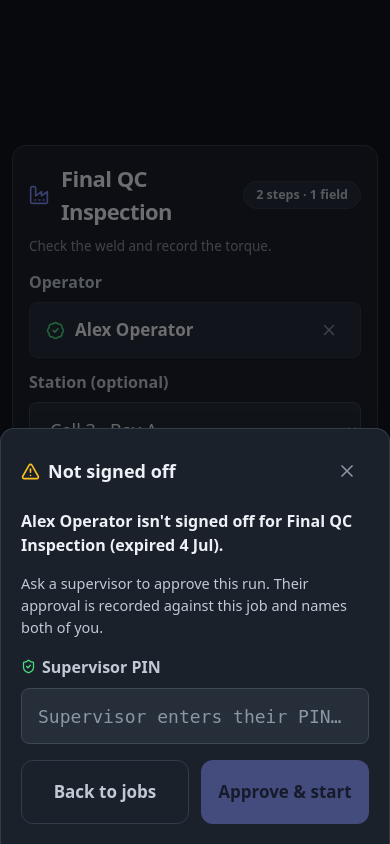
Test: a start refused because the operator is not signed off › asks for the PIN against THIS app and operator, then retries with a bound token
Type "4417" into the password field labelled "Supervisor PIN" at [195, 716], box [21, 688, 369, 744]
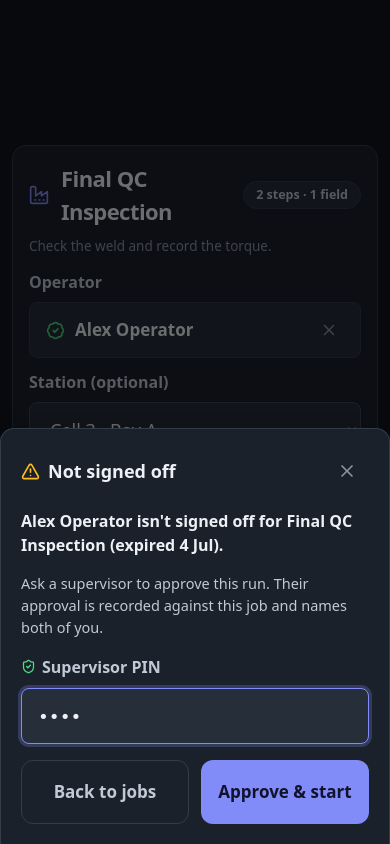
Click the button "Approve & start" at [285, 792], box [201, 760, 369, 824]
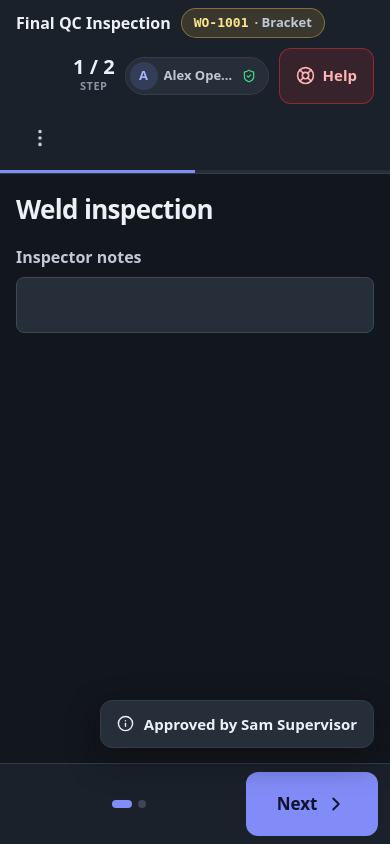
Expected: the heading "Weld inspection" is shown, [16, 190, 213, 228]
